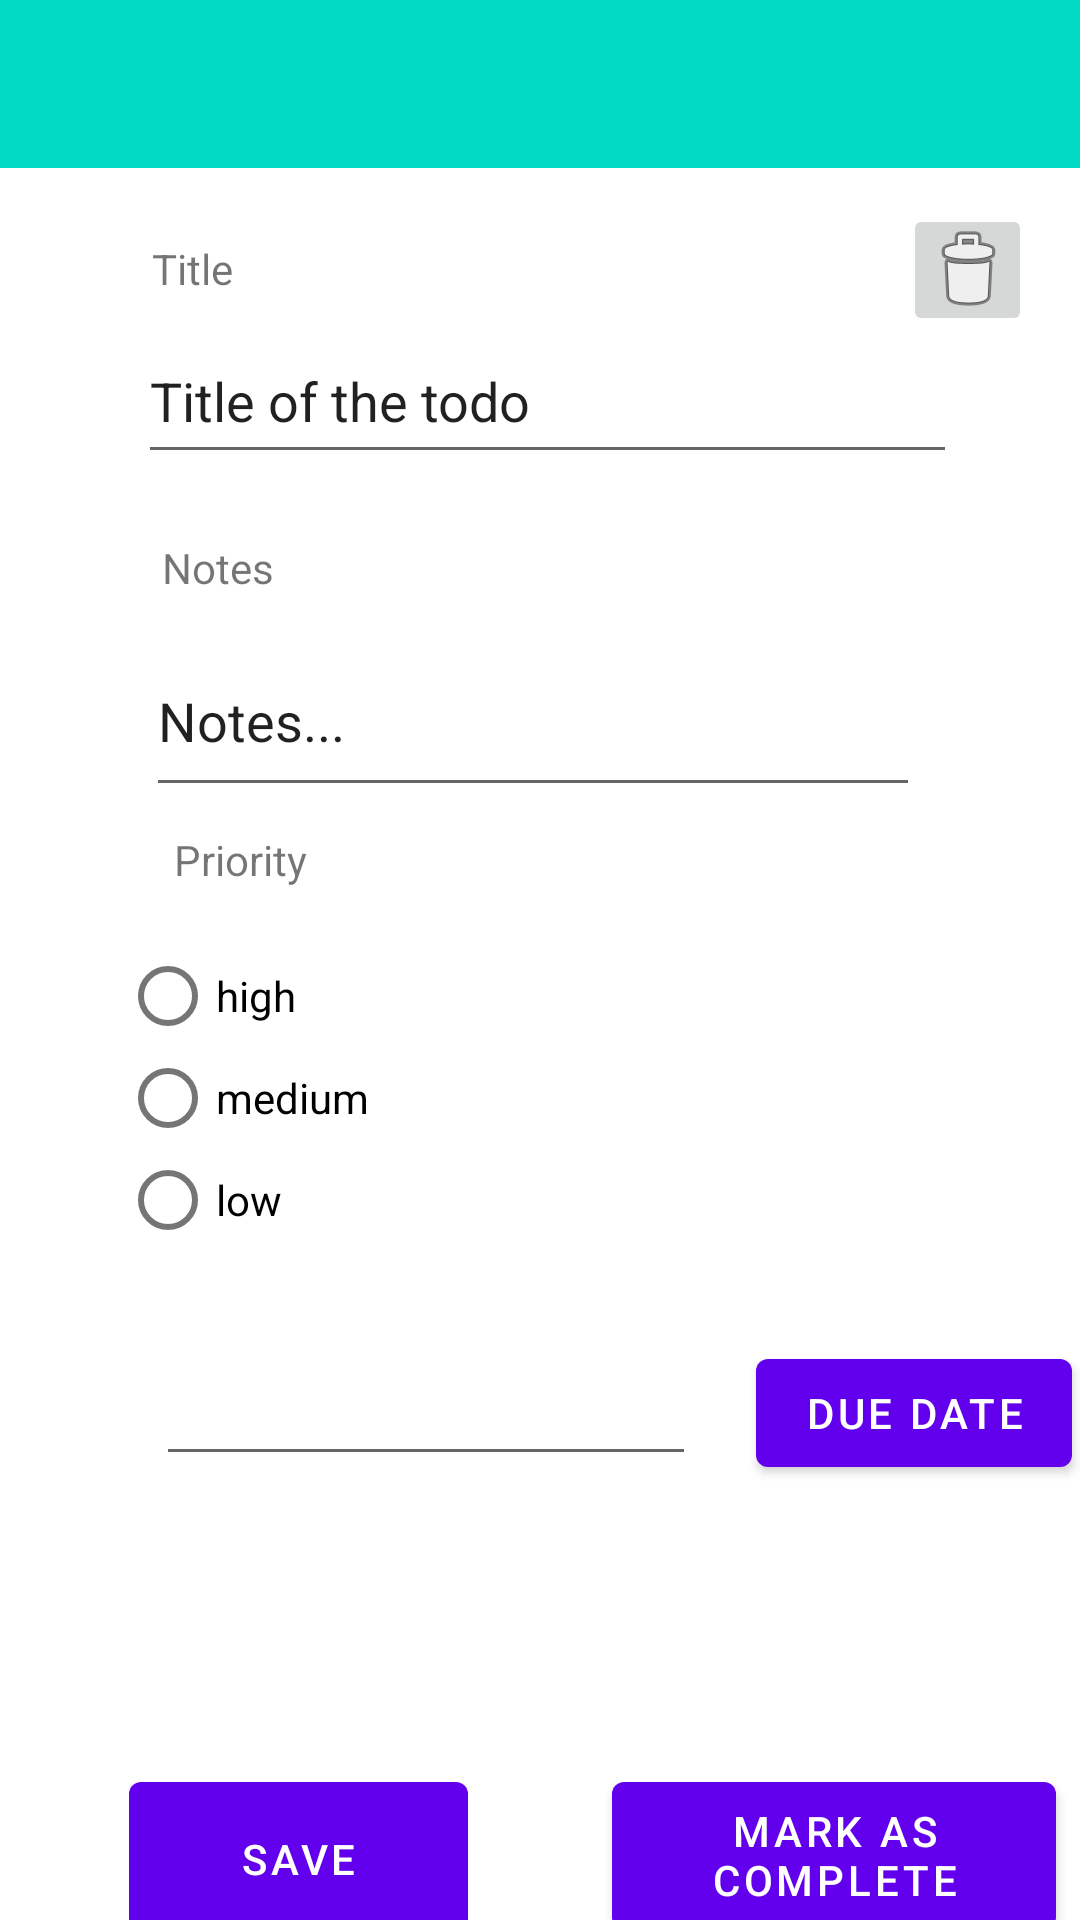

Locate icon controls on the screen. Image size 1080px x 1920px, boxes as box=[x1, y1, x2, y2].
delete: box=[915, 222, 1020, 318]
